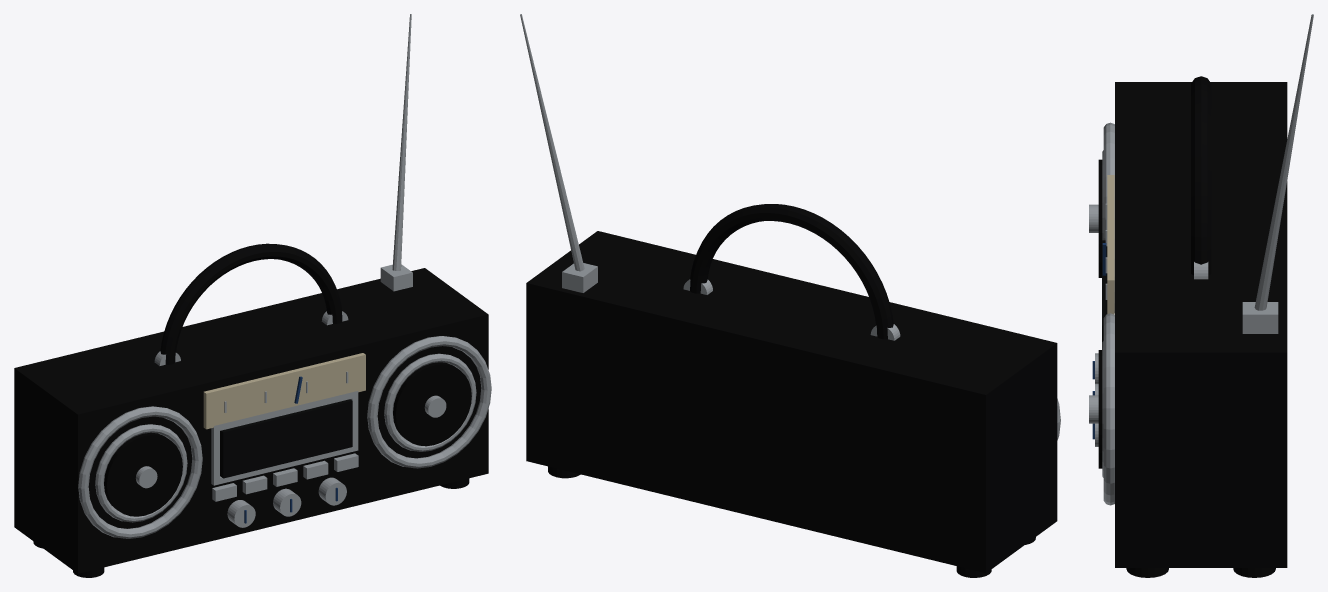
File: Boombox1990s.obj
The picture shows the model from 3 angles, left to right: view 1: azimuth 30°, elevation 25°; view 2: azimuth 150°, elevation 25°; view 3: azimuth 270°, elevation 25°; orthographic projection. The views are drawn at different scales.
Parts seen in each view (by area): view 1: Boombox1990s; view 2: Boombox1990s; view 3: Boombox1990s.
Part boxes in pixels (bbox=[...]): Boombox1990s: bbox=[14, 14, 491, 577]; Boombox1990s: bbox=[520, 14, 1060, 577]; Boombox1990s: bbox=[1089, 14, 1313, 577].
Size of the model in its own units: 0.542 by 0.5267 by 0.1895.
